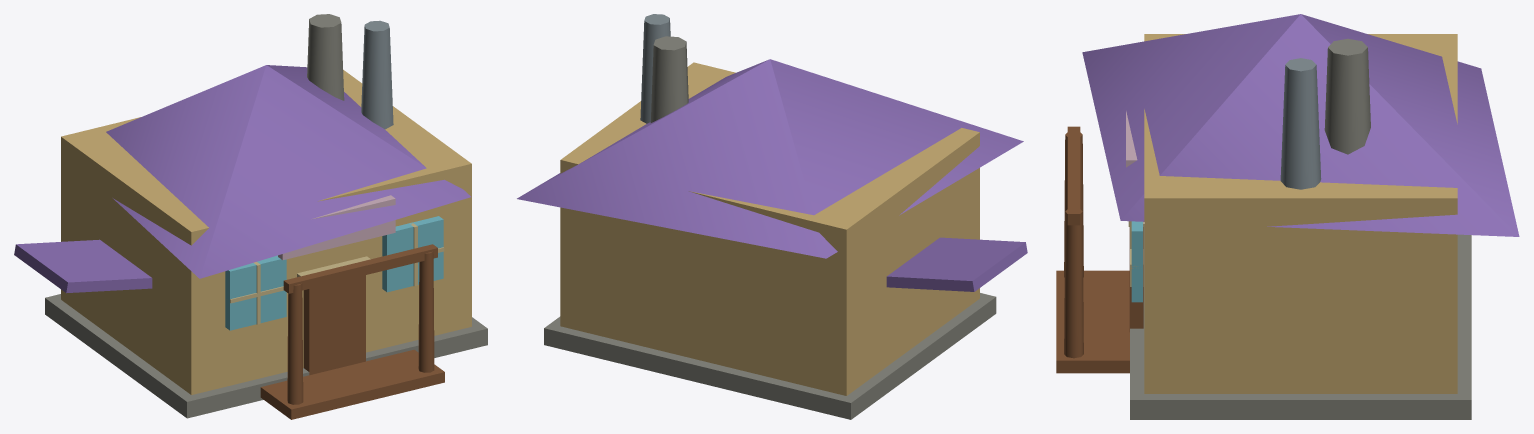
File: carpenter.glb
3 views of the same model, side by side, from view 1: azimuth 30°, elevation 25°; view 2: azimuth 150°, elevation 25°; view 3: azimuth 270°, elevation 25° (orthographic). The views are drawn at different scales.
Visible parts, largest first — view 1: carpenter_body, carpenter_roof, carpenter_foundation, porch, door, workshop_side_awning, window_left, workshop_stack, chimney, window_right, porch_beam, porch_post_145 (+2 smaller); view 2: carpenter_body, carpenter_roof, carpenter_foundation, workshop_side_awning, chimney, workshop_stack; view 3: carpenter_body, carpenter_roof, carpenter_foundation, porch, chimney, workshop_stack, porch_post_145, porch_beam, window_right, porch_post_-145, door.
Part boxes in pixels (left/top/right/bottom): carpenter_body: left=61, top=70, right=471, bottom=394; carpenter_roof: left=106, top=65, right=470, bottom=278; carpenter_foundation: left=45, top=294, right=487, bottom=418; porch: left=260, top=349, right=444, bottom=419; door: left=303, top=275, right=365, bottom=375; workshop_side_awning: left=14, top=239, right=152, bottom=293; window_left: left=225, top=255, right=286, bottom=330; workshop_stack: left=361, top=20, right=393, bottom=129; chimney: left=307, top=14, right=344, bottom=100; window_right: left=382, top=216, right=443, bottom=292; porch_beam: left=283, top=244, right=437, bottom=293; porch_post_145: left=418, top=251, right=434, bottom=372; carpenter_body: left=560, top=62, right=979, bottom=395; carpenter_roof: left=517, top=59, right=1023, bottom=258; carpenter_foundation: left=544, top=293, right=996, bottom=419; workshop_side_awning: left=886, top=237, right=1027, bottom=291; chimney: left=650, top=36, right=688, bottom=122; workshop_stack: left=640, top=14, right=670, bottom=123; carpenter_body: left=1144, top=34, right=1457, bottom=393; carpenter_roof: left=1082, top=14, right=1519, bottom=236; carpenter_foundation: left=1130, top=224, right=1471, bottom=419; porch: left=1056, top=270, right=1129, bottom=373; chimney: left=1324, top=38, right=1370, bottom=154; workshop_stack: left=1280, top=58, right=1321, bottom=189; porch_post_145: left=1064, top=209, right=1083, bottom=358; porch_beam: left=1067, top=126, right=1080, bottom=225; window_right: left=1131, top=221, right=1142, bottom=302; porch_post_-145: left=1064, top=132, right=1083, bottom=277; door: left=1129, top=227, right=1143, bottom=331.
Size of what is drawn, in the model's own units: 8.49 by 5.86 by 7.39.
